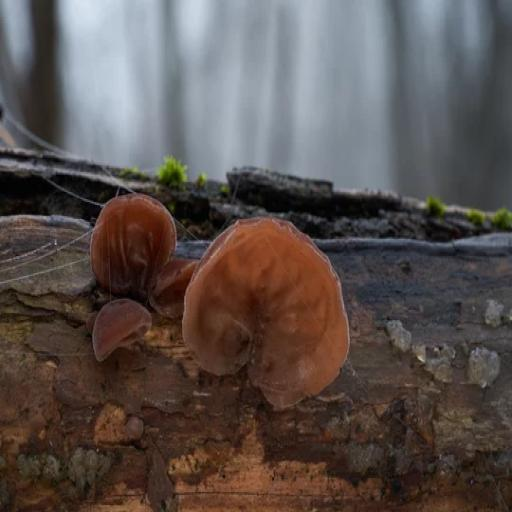Wood Ear Mushroom: (180, 217, 360, 413), (89, 191, 175, 302), (88, 294, 155, 358)
